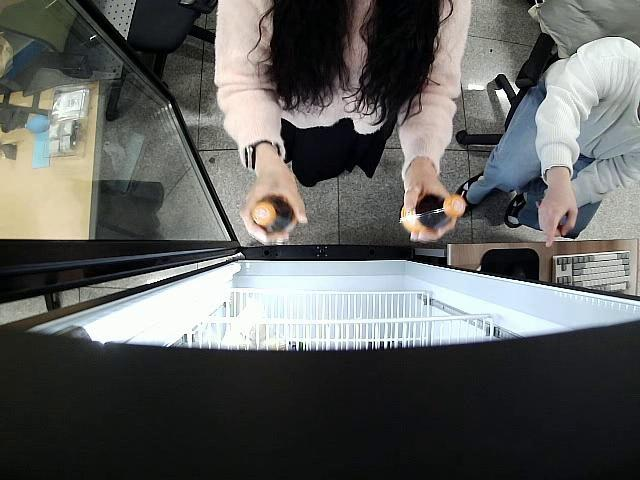17_vita500: (396, 194, 466, 236), (250, 195, 298, 236)
